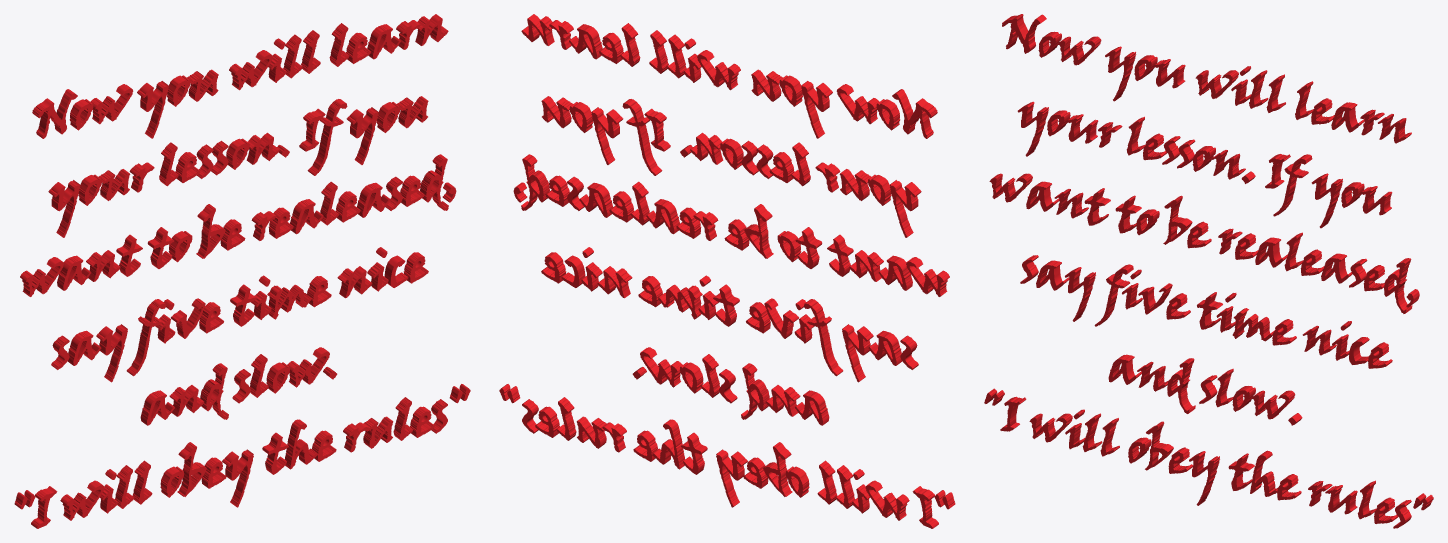
The model's file is punshimentMessage.fbx.
3 views of the same model, side by side, from view 1: azimuth 30°, elevation 25°; view 2: azimuth 150°, elevation 25°; view 3: azimuth 330°, elevation 25° (orthographic).
Parts seen in each view (by area): view 1: node_id85 (×6); view 2: node_id85 (×6); view 3: node_id85 (×6).
Boxes of the visible parts, left/top/right/bottom form: node_id85 (×6): left=14, top=14, right=470, bottom=528; node_id85 (×6): left=499, top=14, right=955, bottom=528; node_id85 (×6): left=984, top=14, right=1433, bottom=528.
Size of the model in its own units: 0.6249 by 0.6023 by 0.015.
